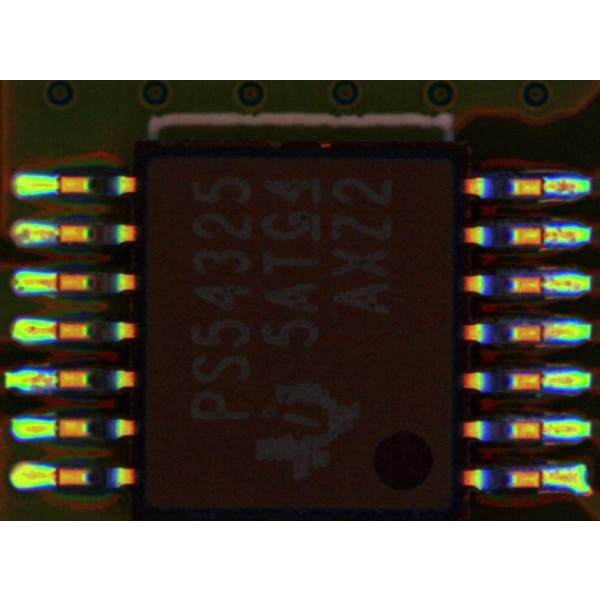Bad_podu: (39, 469, 72, 482), (38, 276, 71, 288), (42, 325, 70, 338), (532, 325, 557, 338), (530, 229, 557, 241)
